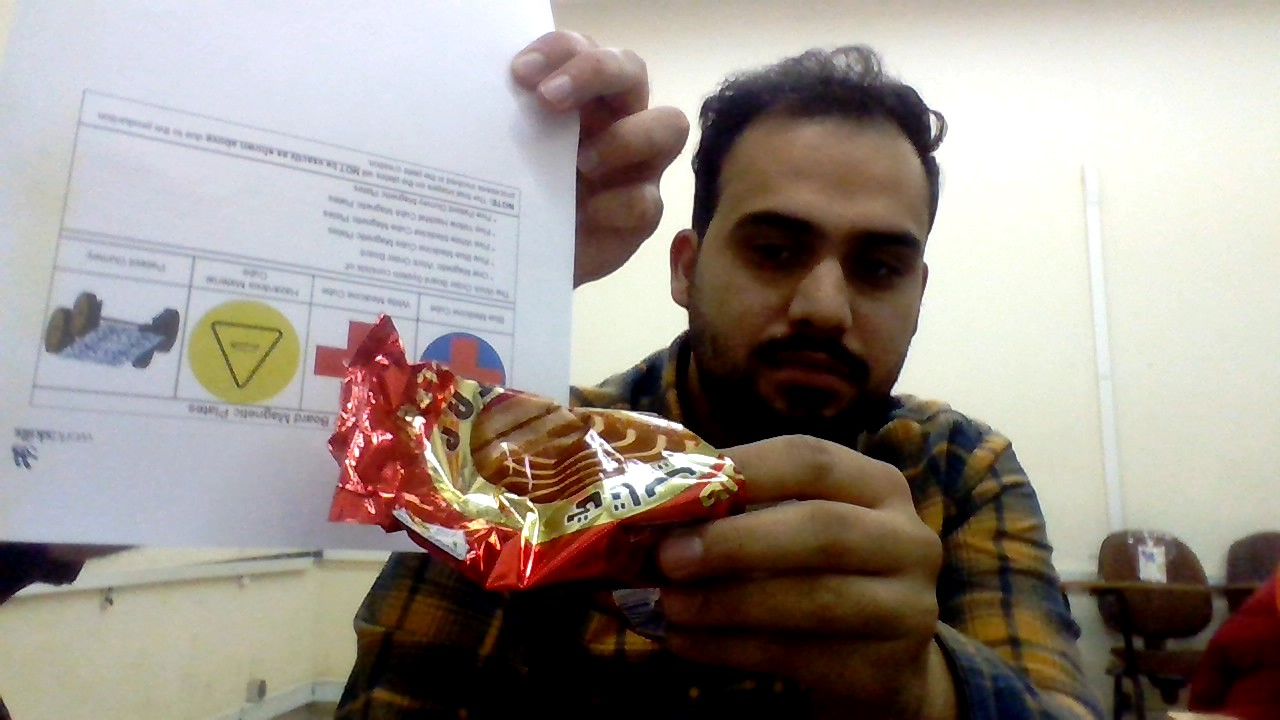bmc: (427, 330, 507, 385)
hmc: (185, 305, 304, 408)
pg: (42, 294, 185, 369)
wmc: (313, 310, 374, 386)
